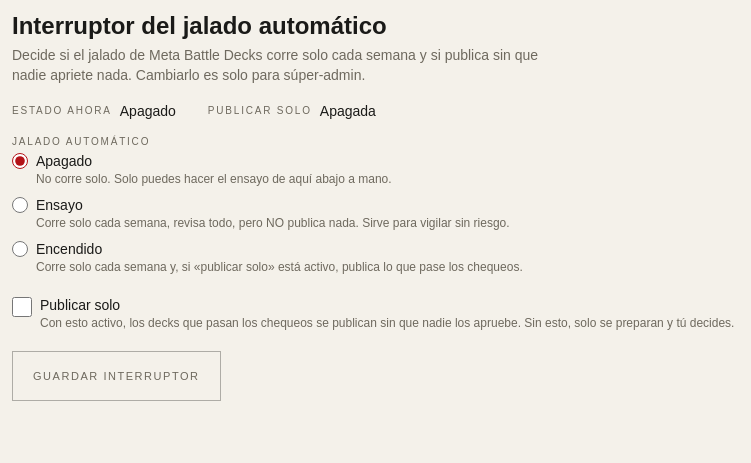
it: DecksMetaDialControl · interruptor del jalado automático › un 403 al escribir se muestra como aviso claro (no el error crudo)
Expected: the text "Estado ahora" is shown, [12, 106, 112, 116]
Note: Cambio que no escala → escribe directo → cae en 403.
Click the radio button labelled "Ensayo" at (20, 205), box [12, 197, 28, 213]
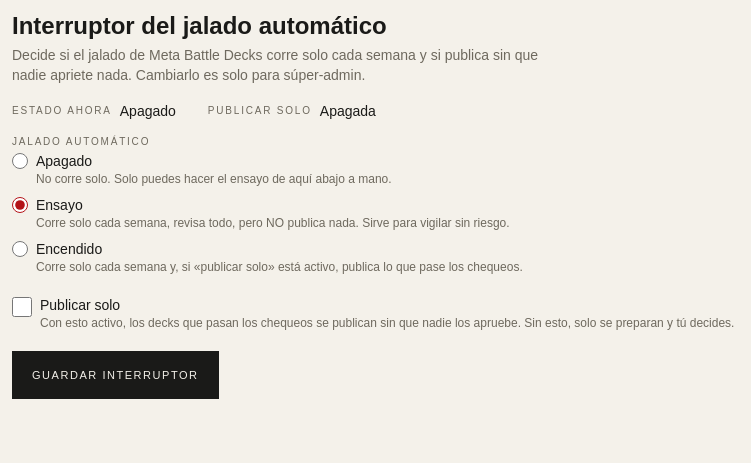
Click the button "Guardar interruptor" at (115, 375), box [12, 351, 219, 399]
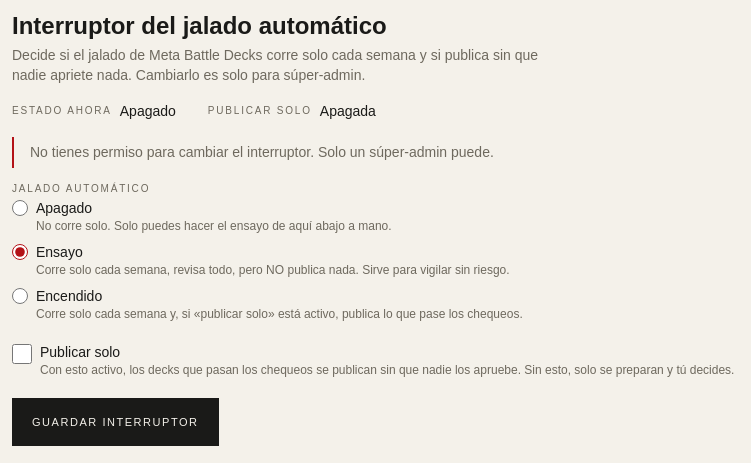
Expected: the text "No tienes permiso para cambiar el interruptor. Solo un súper-admin puede." is shown, [30, 144, 494, 160]
